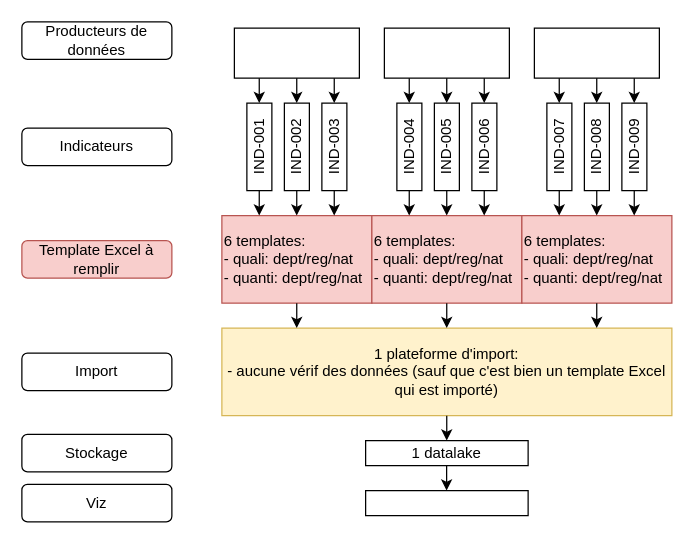
Some shapes in this 694 by 544 pixel diagram are drawn without their labels. Each missing label, with the centre of its shape:
"Ministère 1" belongs at point (296, 52).
"Ministère 2" belongs at point (446, 52).
"Ministère 3" belongs at point (596, 52).
"Visualisation" belongs at point (446, 502).
